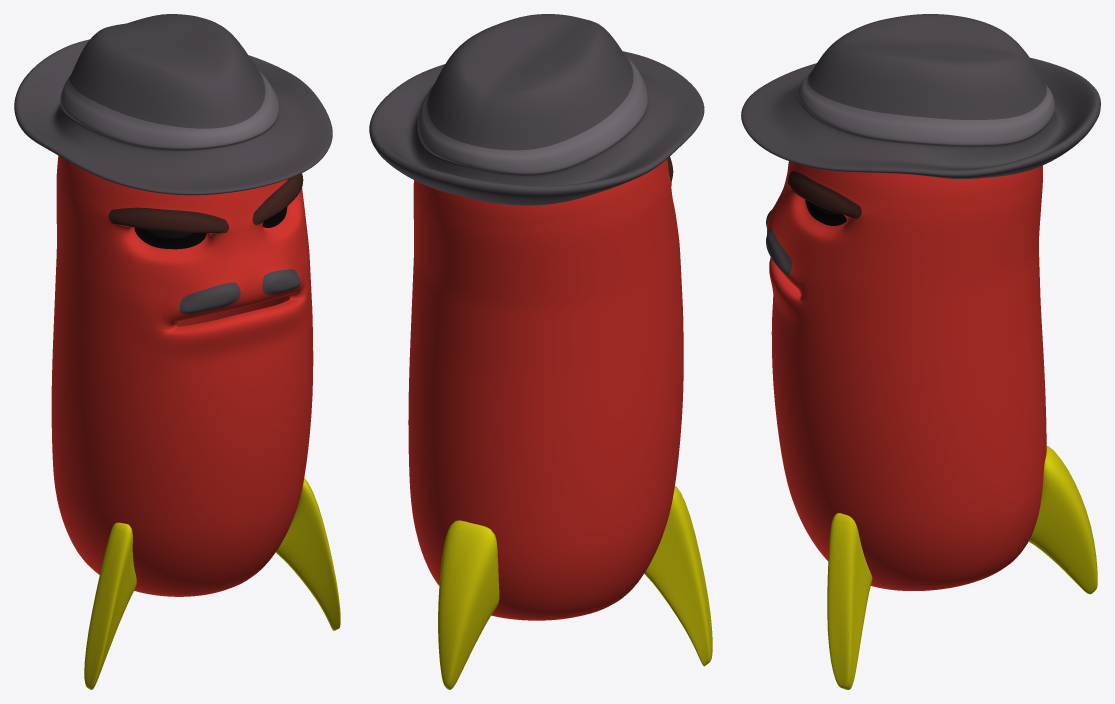
File: MafiaBohne.fbx
The picture shows the model from 3 angles, left to right: view 1: azimuth 30°, elevation 25°; view 2: azimuth 150°, elevation 25°; view 3: azimuth 270°, elevation 25°; orthographic projection. The views are drawn at different scales.
Parts seen in each view (by area): view 1: Charakter; view 2: Charakter; view 3: Charakter.
Boxes of the visible parts, bbox=[...] form: Charakter: bbox=[14, 14, 340, 689]; Charakter: bbox=[369, 14, 712, 689]; Charakter: bbox=[741, 14, 1100, 689].
Bounding box in the file's own units: 113 × 246 × 135.
